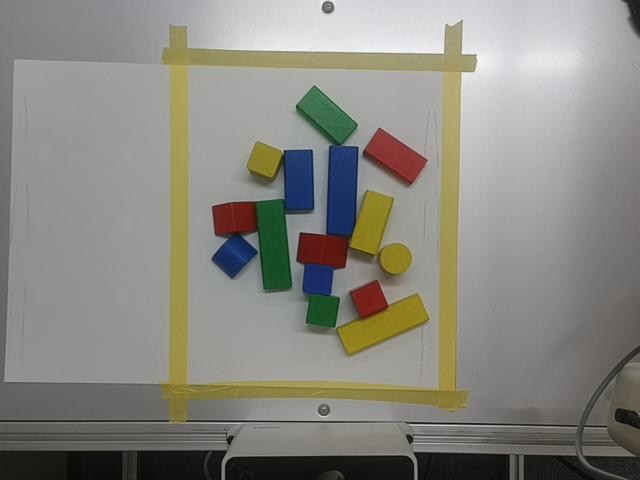blue_cube: (303, 264, 333, 295)
blue_longrect: (326, 146, 358, 236)
blue_rect: (284, 150, 313, 212)
cylinder: (378, 243, 410, 274)
green_cube: (306, 294, 339, 327)
green_longrect: (256, 199, 291, 291)
green_rect: (297, 86, 357, 144)
half_cylinder: (212, 235, 256, 278)
red_cube: (350, 280, 388, 318)
red_rect: (364, 128, 426, 184)
triangle: (297, 233, 348, 268), (212, 202, 255, 234)
yellow_cube: (247, 142, 282, 181)
yellow_longrect: (337, 294, 428, 354)
yelow_rect: (350, 190, 393, 255)
